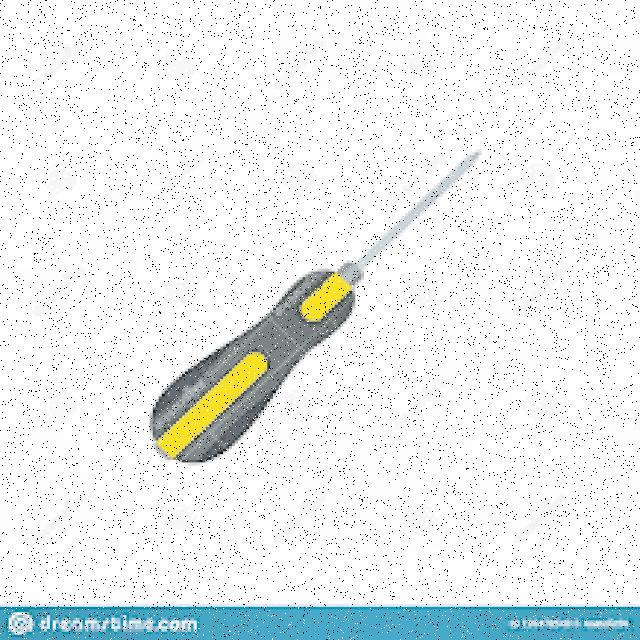screwdriver: (150, 148, 481, 461)
